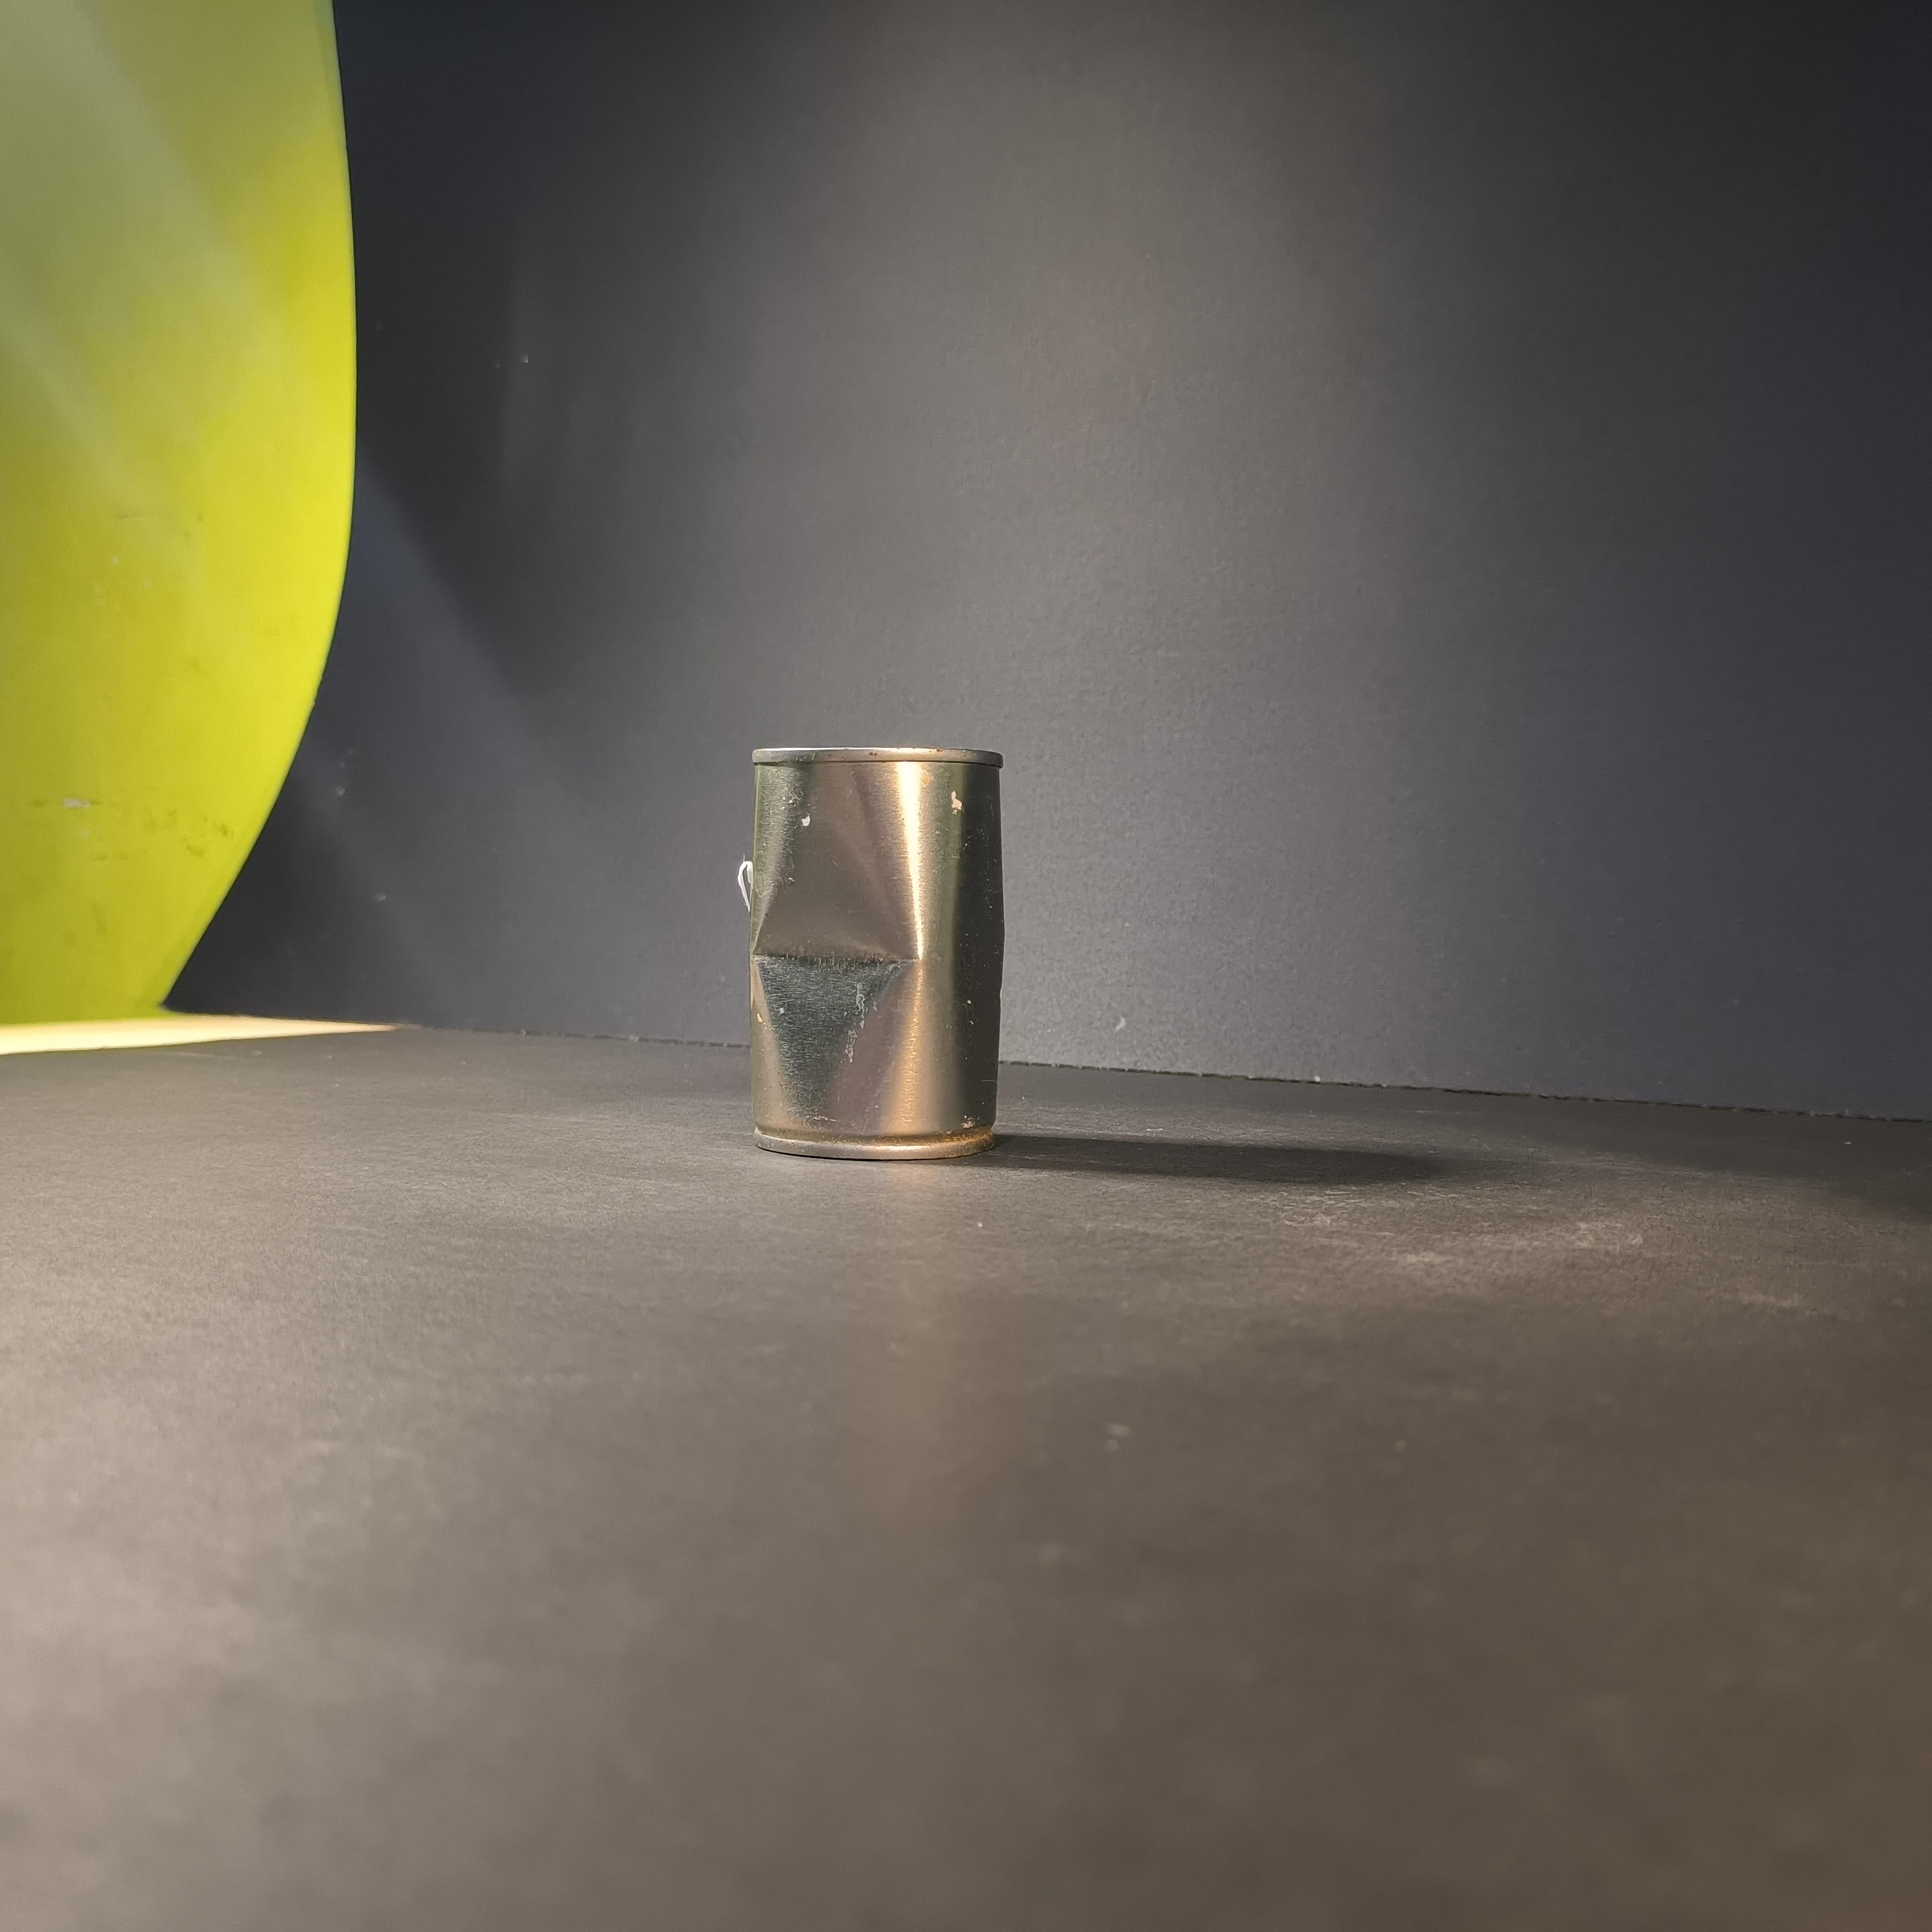Dented: (732, 724, 1019, 1182)
